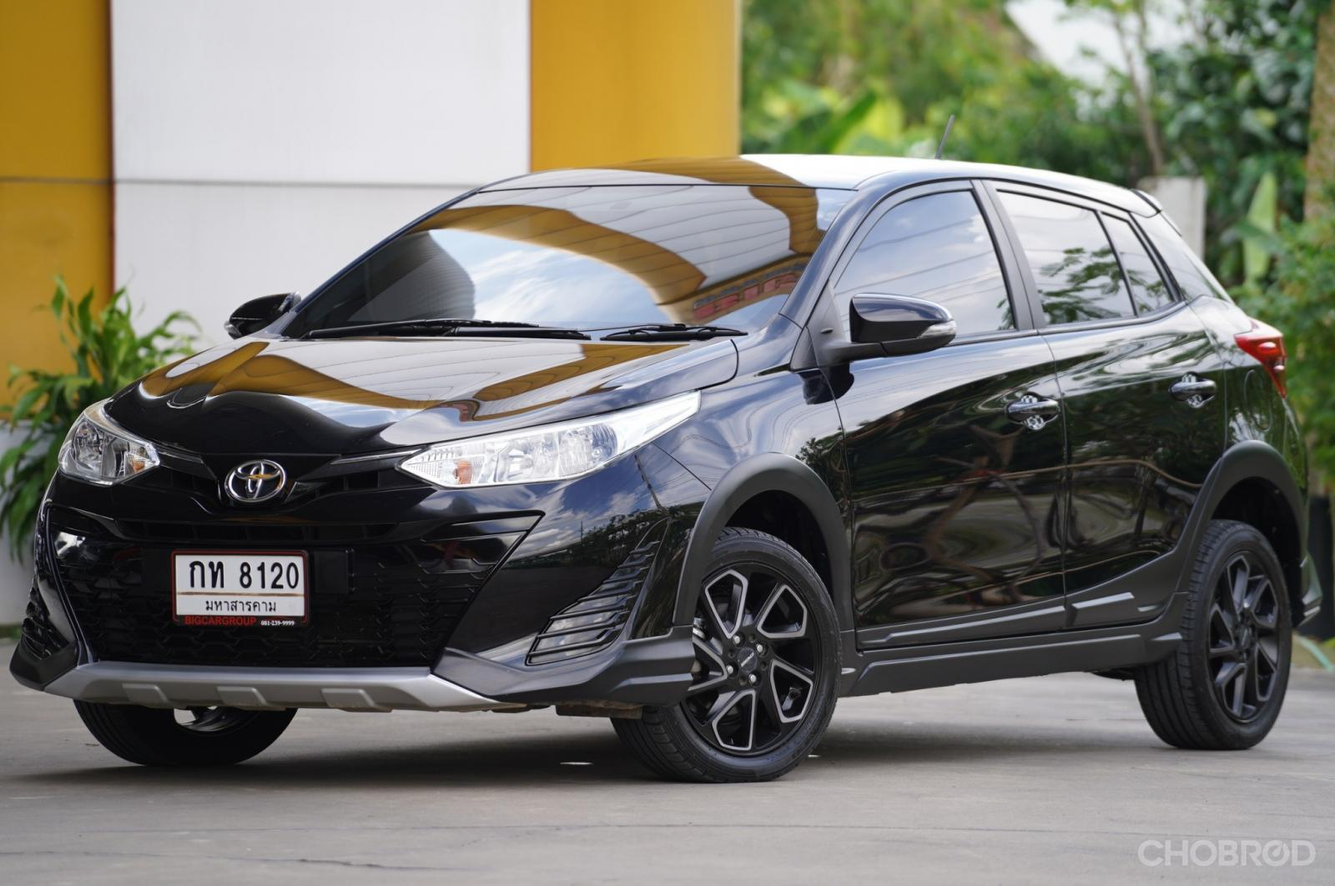license-plate: (172, 549, 311, 627)
